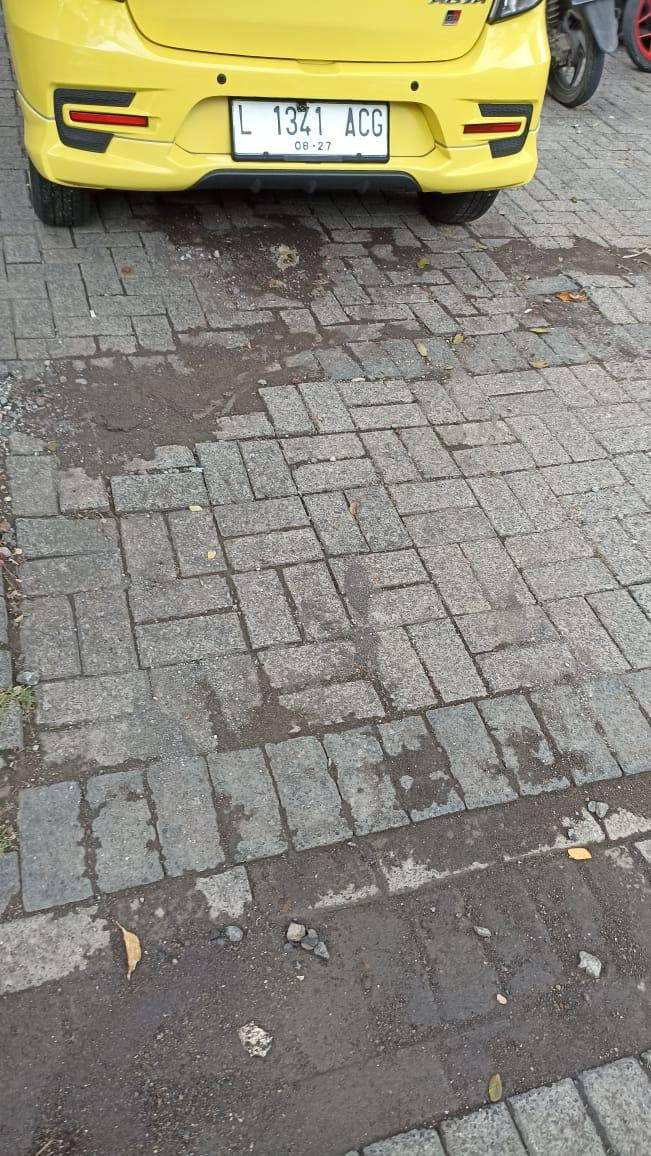plat: (230, 99, 388, 163)
